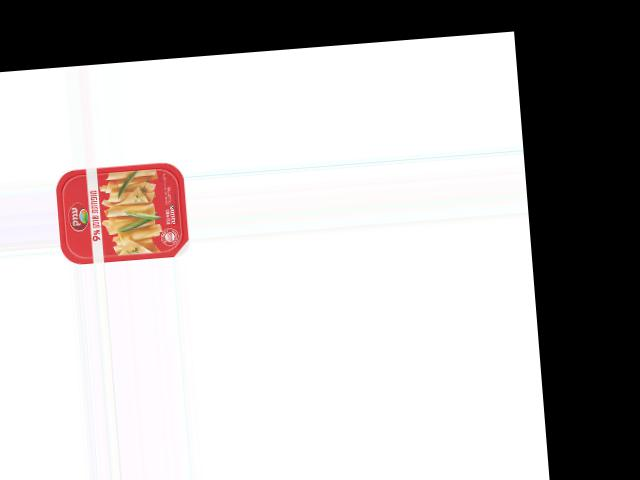cheese: (54, 160, 190, 265)
